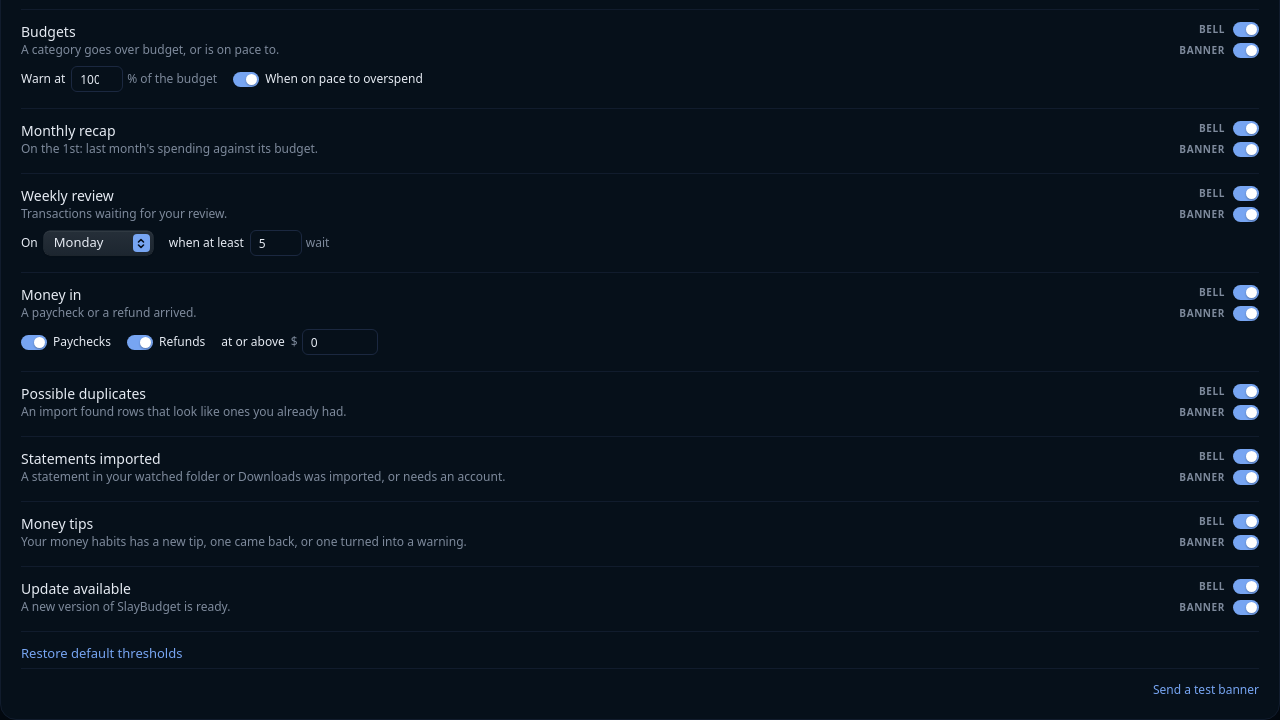
Test: NotificationsPane › uses slide toggles everywhere, with Bell above Banner, and Banner off while Bell is off
(page scrolled)
expect the switch named "When on pace to overspend" is shown: met, box x1=233 y1=72 x2=259 y2=86
expect the switch named "Paychecks" is shown: met, box x1=21 y1=334 x2=47 y2=350
Click the switch named "Bell" in the row of "Monthly recap" at (1246, 128), box x1=1233 y1=121 x2=1259 y2=136
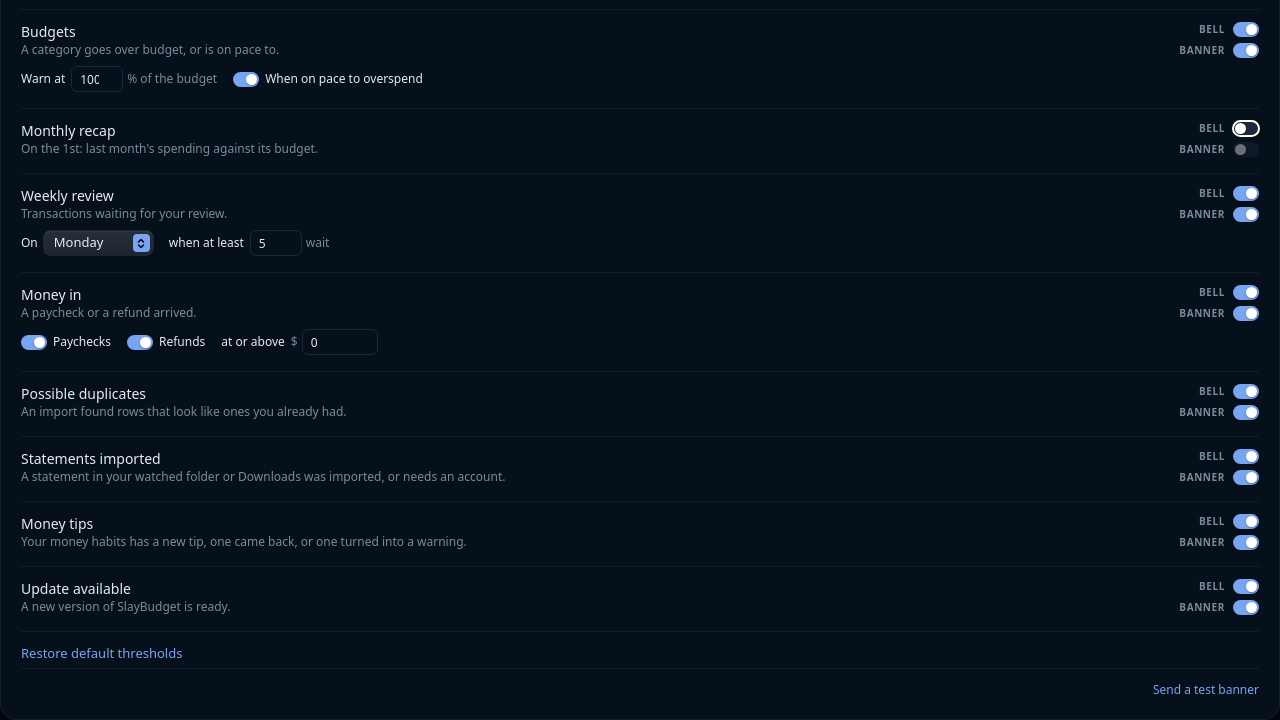
expect the 2nd switch named "Banner" is disabled: met, box x1=1233 y1=142 x2=1259 y2=157
